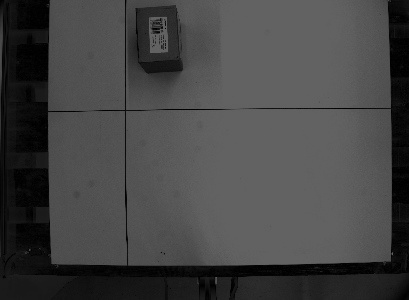b5: (132, 2, 186, 75)
